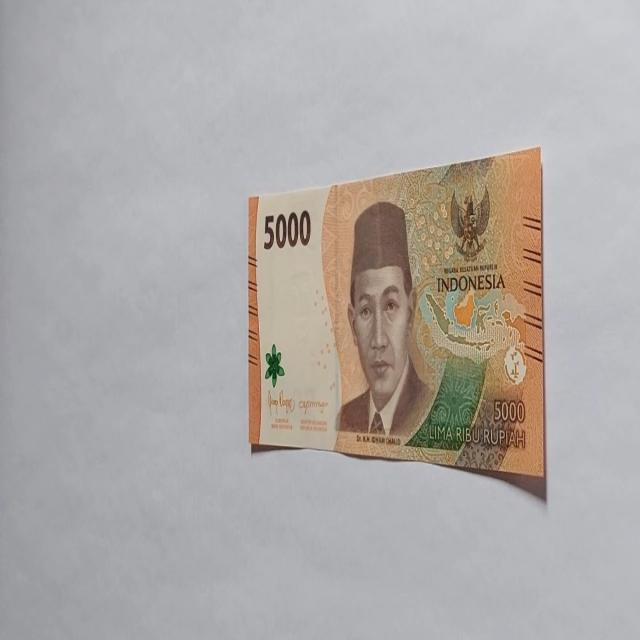lima ribu rupiah: (246, 149, 546, 502), (334, 200, 434, 441)
